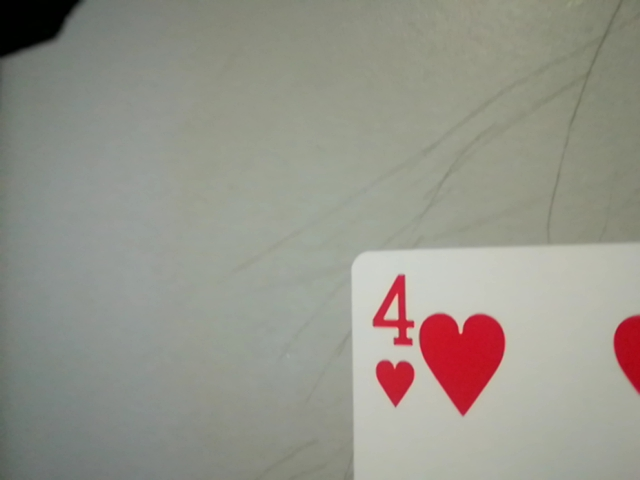hx 4: (359, 264, 422, 414)
